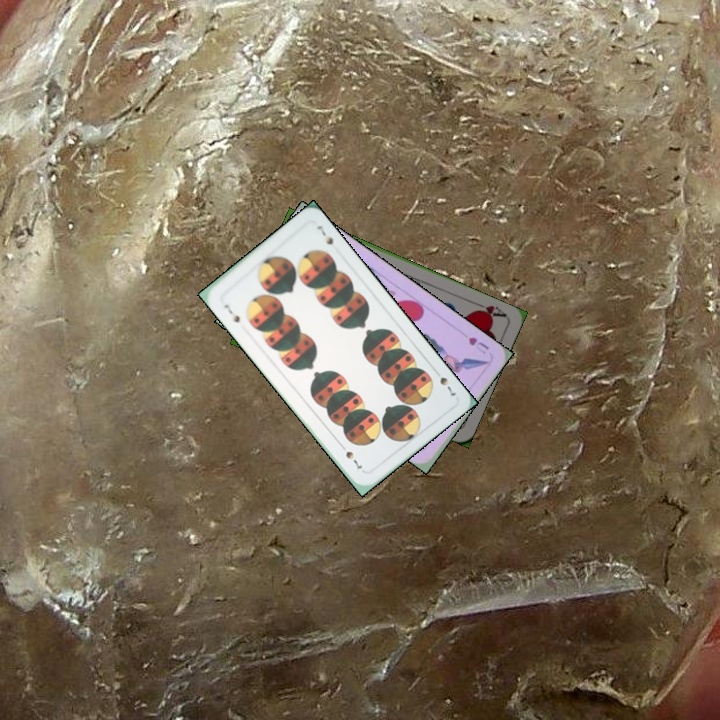HA: (469, 298, 509, 322)
HU: (464, 333, 491, 357)
S7: (430, 365, 458, 399), (220, 300, 243, 325)
